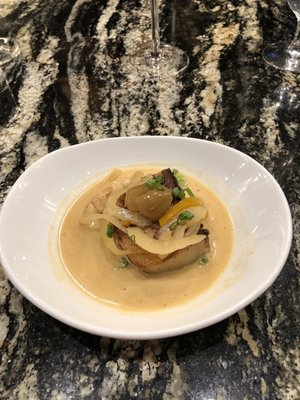sushi: (0, 135, 297, 397)
